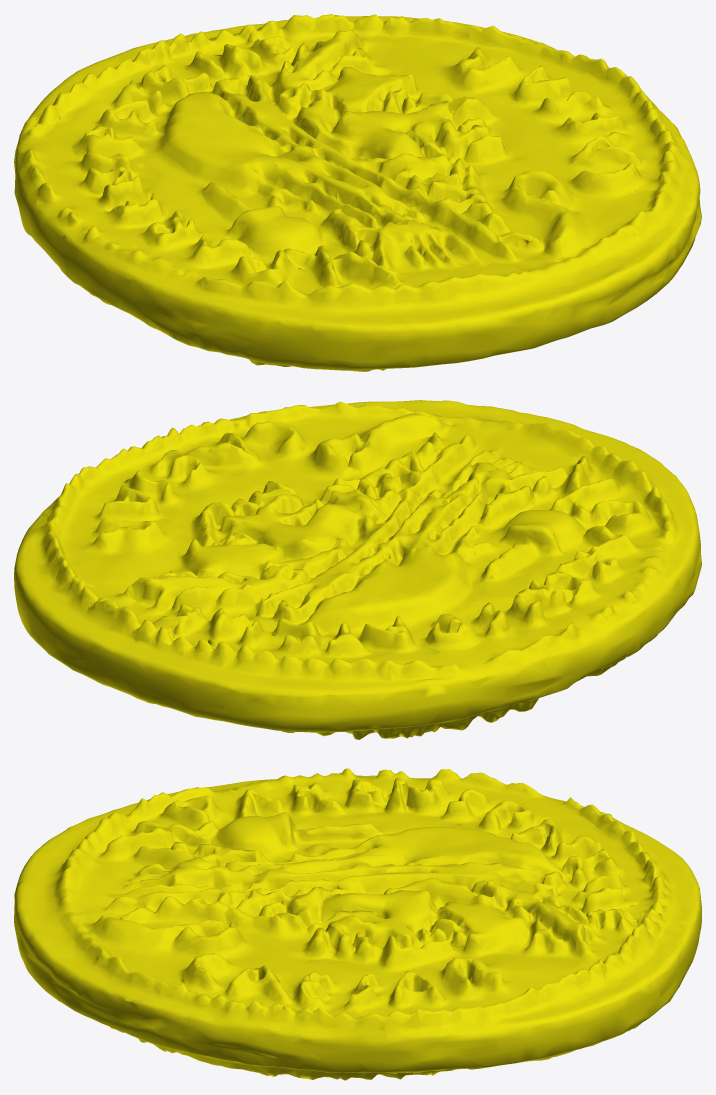
File: SingleCoin.fbx
The picture shows the model from 3 angles, top to bottom: view 1: azimuth 30°, elevation 25°; view 2: azimuth 150°, elevation 25°; view 3: azimuth 270°, elevation 25°; orthographic projection. The views are drawn at different scales.
Visible parts, largest first — view 1: Coin; view 2: Coin; view 3: Coin.
Boxes of the visible parts, x1=… form: Coin: x1=14, y1=14, x2=701, y2=371; Coin: x1=14, y1=400, x2=701, y2=739; Coin: x1=14, y1=768, x2=701, y2=1080.
Bounding box in the file's own units: 9.23 × 1.49 × 10.1.
